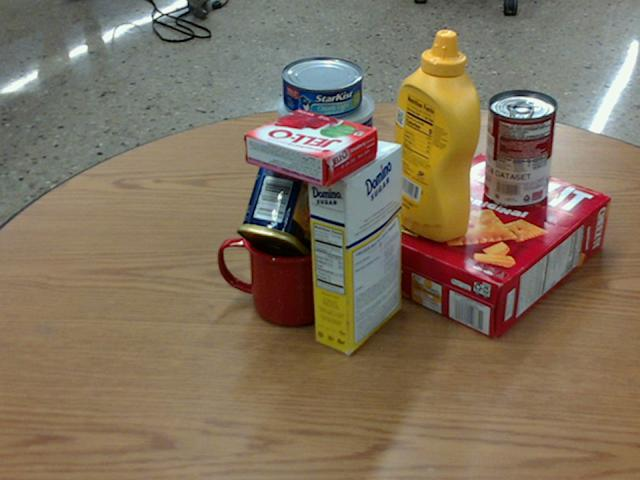cracker_box: (362, 152, 608, 338)
gelatin_box: (242, 107, 378, 188)
large_marker: (404, 111, 422, 212)
master_chef_can: (278, 83, 375, 239)
mug: (215, 209, 336, 325)
mustard_bottle: (387, 29, 480, 241)
potted_meat_can: (237, 144, 336, 266)
sugar_box: (305, 137, 400, 353)
tomato_soup_can: (483, 89, 556, 206)
tuna_fish_can: (281, 56, 363, 117)
